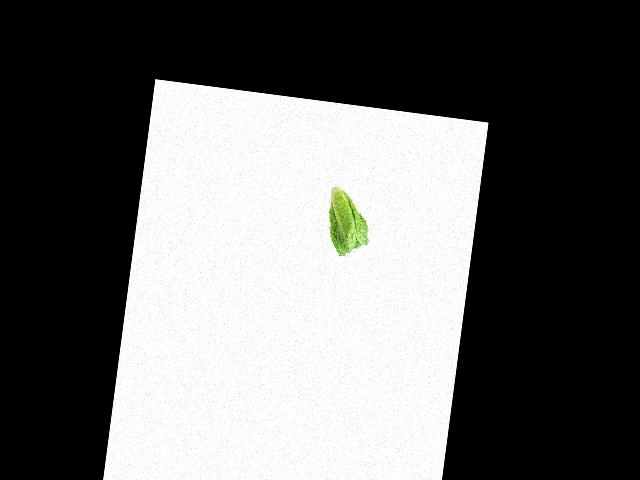lettuce: (322, 179, 376, 259)
